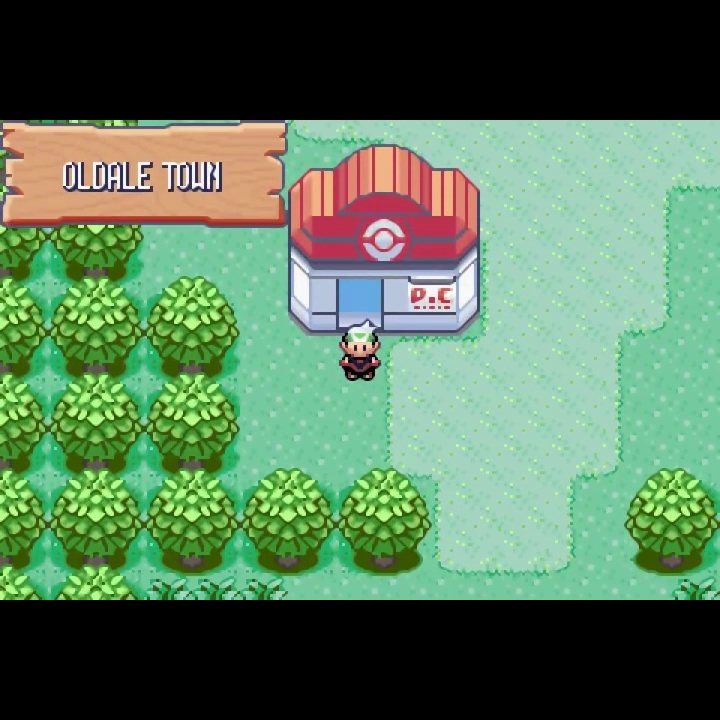grass: (671, 576, 720, 601), (192, 576, 242, 600), (144, 576, 194, 599), (241, 577, 289, 600)
npc: (337, 316, 385, 382)
pokecen: (285, 143, 483, 338)
wall: (144, 466, 242, 575), (624, 466, 720, 577), (240, 467, 337, 576), (337, 466, 433, 575), (48, 371, 146, 469), (48, 275, 146, 372), (144, 275, 241, 373), (145, 372, 242, 468), (49, 468, 144, 565), (48, 225, 145, 277), (1, 468, 50, 564), (1, 372, 48, 469), (1, 276, 48, 372), (51, 564, 144, 600), (1, 225, 49, 277), (1, 564, 52, 600)
